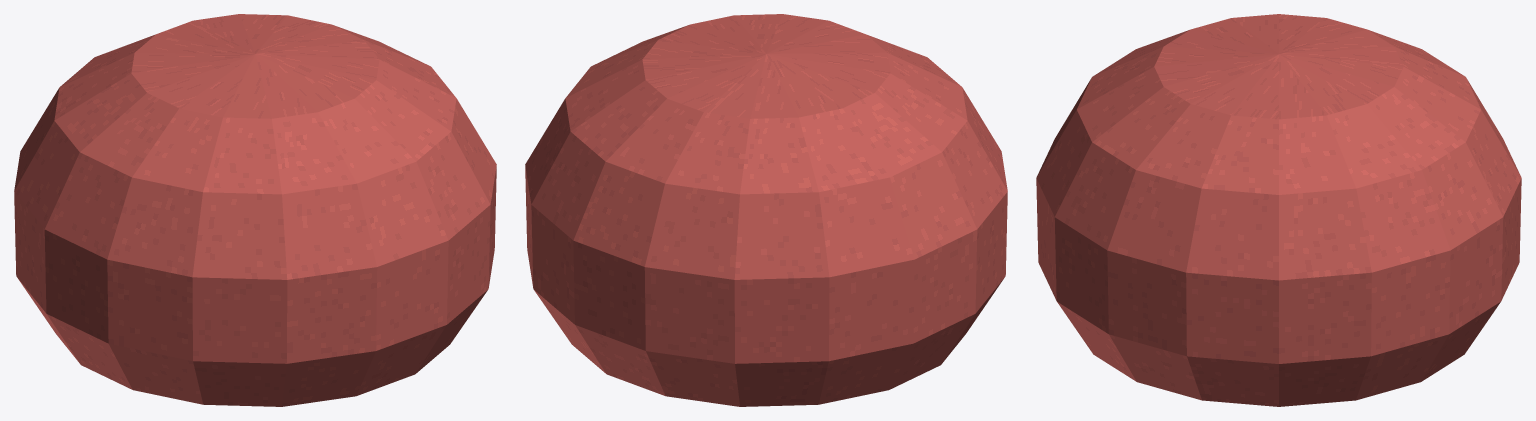
File: clown_nose.glb
3 views of the same model, side by side, from view 1: azimuth 30°, elevation 25°; view 2: azimuth 150°, elevation 25°; view 3: azimuth 270°, elevation 25° (orthographic).
Visible parts, largest first — view 1: block_hollow red clown nose; view 2: block_hollow red clown nose; view 3: block_hollow red clown nose.
Boxes of the visible parts, x1=… form: block_hollow red clown nose: x1=14, y1=14, x2=496, y2=406; block_hollow red clown nose: x1=525, y1=14, x2=1007, y2=406; block_hollow red clown nose: x1=1036, y1=14, x2=1521, y2=406.
Bounding box in the file's own units: 0.1323 × 0.0805 × 0.1323.
1 material, 1 textured.
